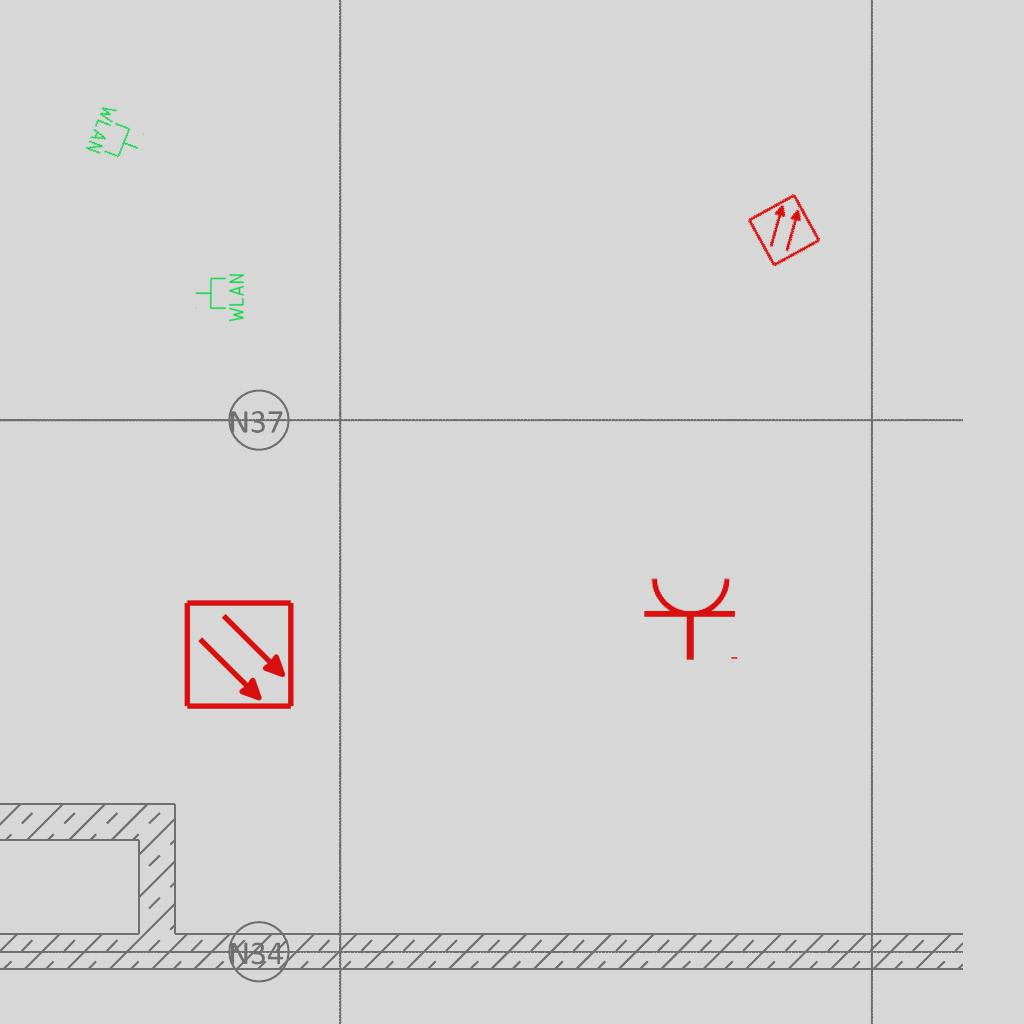RMO_Rauchmelder_optischer: (183, 598, 296, 711), (745, 191, 823, 269)
Schukosteckdose_einfach: (642, 575, 742, 662)
WLAN: (83, 101, 151, 169), (194, 272, 246, 324)
